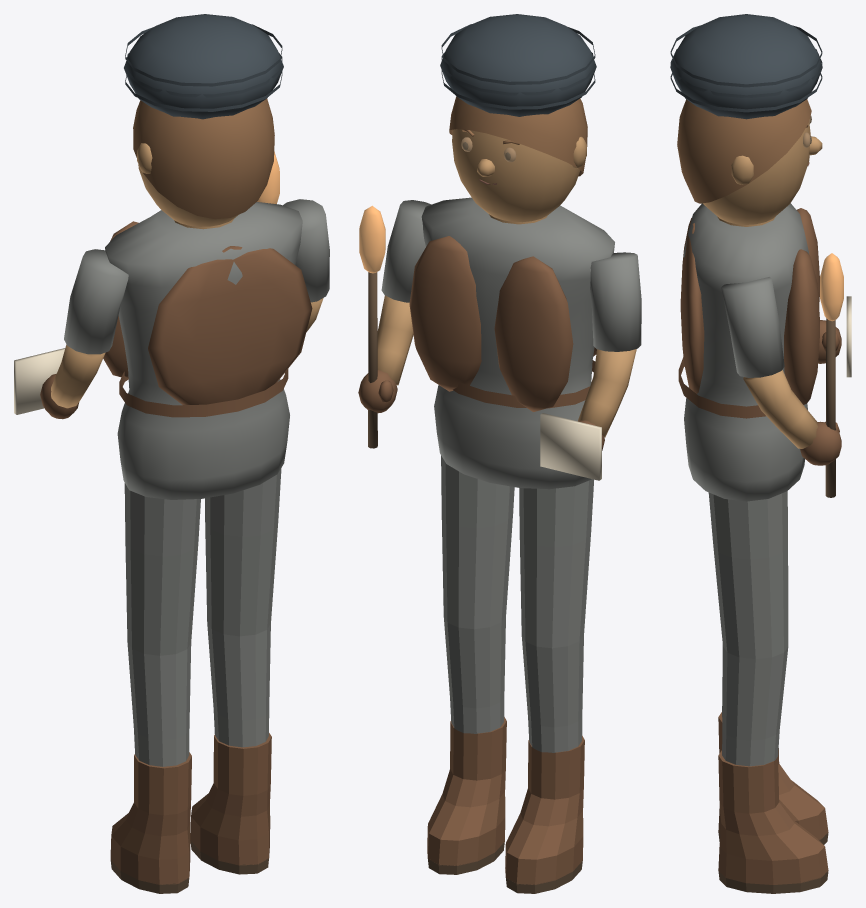
The model's file is SM_NPC_CENIZA.glb.
The picture shows the model from 3 angles, left to right: view 1: azimuth 30°, elevation 25°; view 2: azimuth 150°, elevation 25°; view 3: azimuth 270°, elevation 25°; orthographic projection. The views are drawn at different scales.
Visible parts, largest first — view 1: SM_NPC_CENIZA_BODY, SM_NPC_CENIZA_LEG_L, SM_NPC_CENIZA_HAIR, SM_NPC_CENIZA_LEG_R, SM_NPC_CENIZA_ARM_L, SM_NPC_CENIZA_ARM_R, SM_NPC_CENIZA_HEAD; view 2: SM_NPC_CENIZA_BODY, SM_NPC_CENIZA_LEG_L, SM_NPC_CENIZA_LEG_R, SM_NPC_CENIZA_HAIR, SM_NPC_CENIZA_ARM_L, SM_NPC_CENIZA_ARM_R, SM_NPC_CENIZA_HEAD; view 3: SM_NPC_CENIZA_BODY, SM_NPC_CENIZA_LEG_R, SM_NPC_CENIZA_HAIR, SM_NPC_CENIZA_ARM_R, SM_NPC_CENIZA_HEAD, SM_NPC_CENIZA_LEG_L, SM_NPC_CENIZA_ARM_L.
Part boxes in pixels (bbox=[...]): SM_NPC_CENIZA_BODY: bbox=[103, 202, 312, 499]; SM_NPC_CENIZA_LEG_L: bbox=[110, 483, 200, 893]; SM_NPC_CENIZA_HAIR: bbox=[124, 14, 283, 219]; SM_NPC_CENIZA_LEG_R: bbox=[190, 468, 281, 874]; SM_NPC_CENIZA_ARM_L: bbox=[14, 249, 128, 419]; SM_NPC_CENIZA_ARM_R: bbox=[257, 151, 329, 331]; SM_NPC_CENIZA_HEAD: bbox=[137, 126, 273, 226]; SM_NPC_CENIZA_BODY: bbox=[409, 197, 614, 489]; SM_NPC_CENIZA_LEG_L: bbox=[505, 479, 593, 893]; SM_NPC_CENIZA_LEG_R: bbox=[427, 455, 514, 874]; SM_NPC_CENIZA_HAIR: bbox=[440, 14, 596, 176]; SM_NPC_CENIZA_ARM_L: bbox=[540, 252, 641, 480]; SM_NPC_CENIZA_ARM_R: bbox=[358, 200, 431, 448]; SM_NPC_CENIZA_HEAD: bbox=[452, 129, 586, 222]; SM_NPC_CENIZA_BODY: bbox=[678, 203, 819, 501]; SM_NPC_CENIZA_LEG_R: bbox=[708, 491, 828, 893]; SM_NPC_CENIZA_HAIR: bbox=[670, 14, 822, 203]; SM_NPC_CENIZA_ARM_R: bbox=[721, 253, 843, 497]; SM_NPC_CENIZA_HEAD: bbox=[703, 122, 822, 224]; SM_NPC_CENIZA_LEG_L: bbox=[718, 491, 828, 844]; SM_NPC_CENIZA_ARM_L: bbox=[818, 296, 851, 377].
Size of the model in its own units: 0.6157 by 1.88 by 0.3699.
